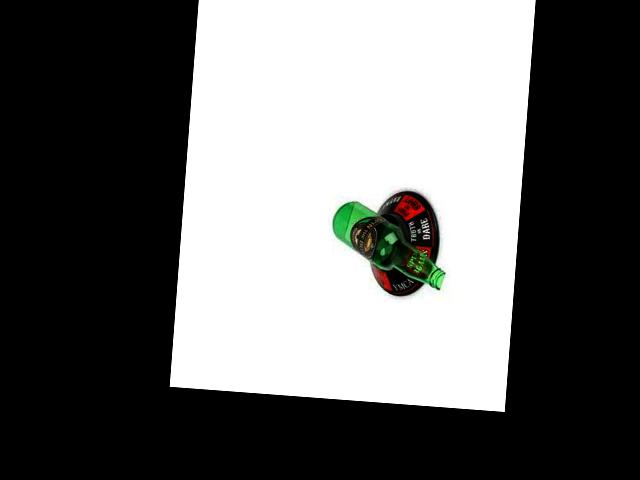beer: (328, 198, 450, 289)
